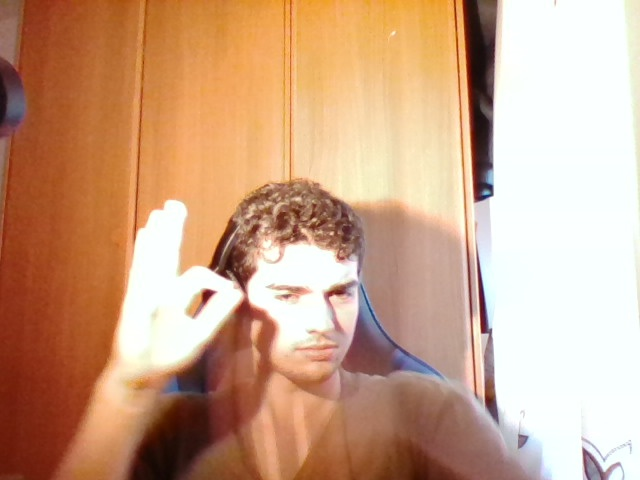o: (92, 182, 249, 392)
